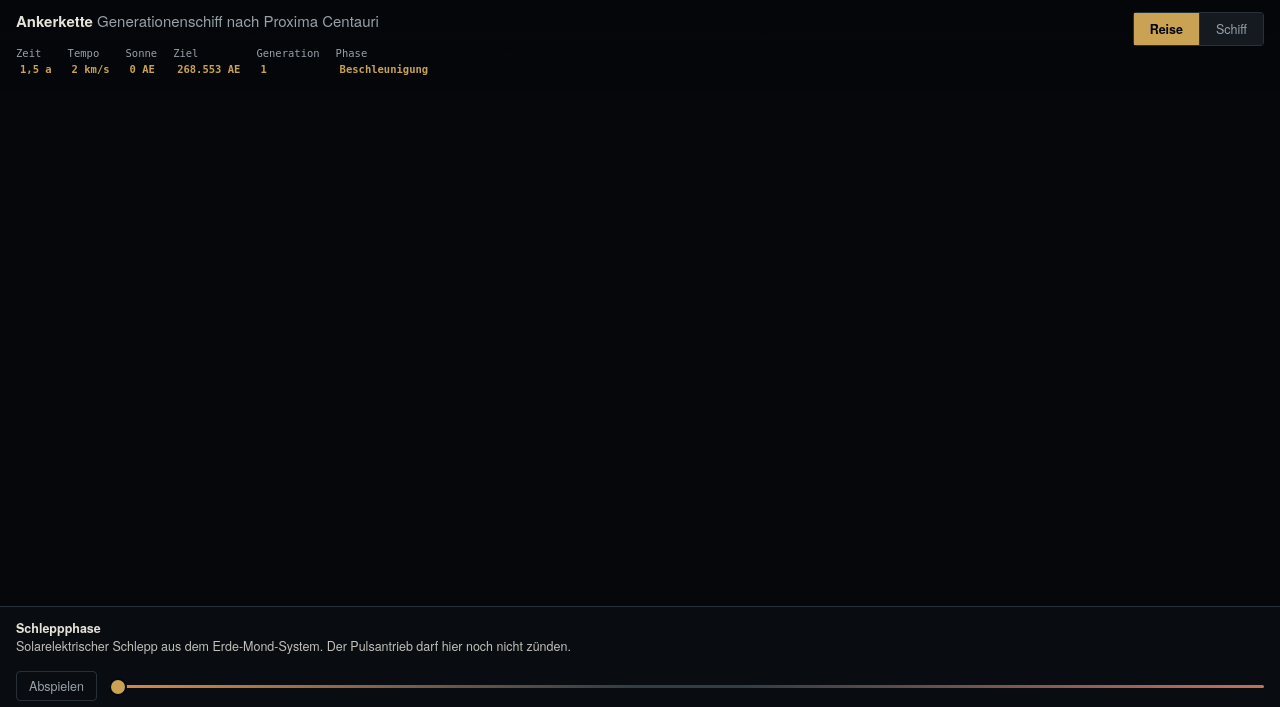
Test: App › switches to the ship without leaving the view
Click the button "Schiff": [1232, 29] box [1200,13,1263,45]
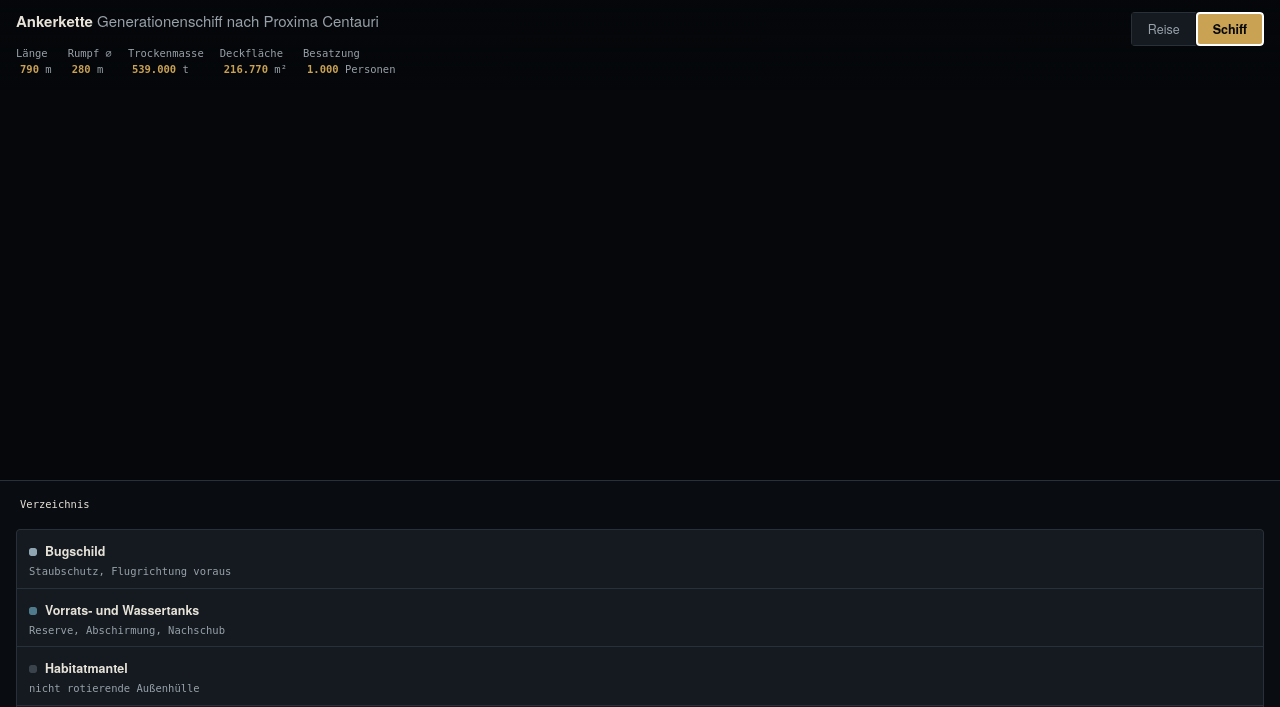
Expected: the element named "Ansicht wechseln" is shown, [1131,12,1264,46]
Expected: the button "Verzeichnis" is shown, [16,493,94,517]
